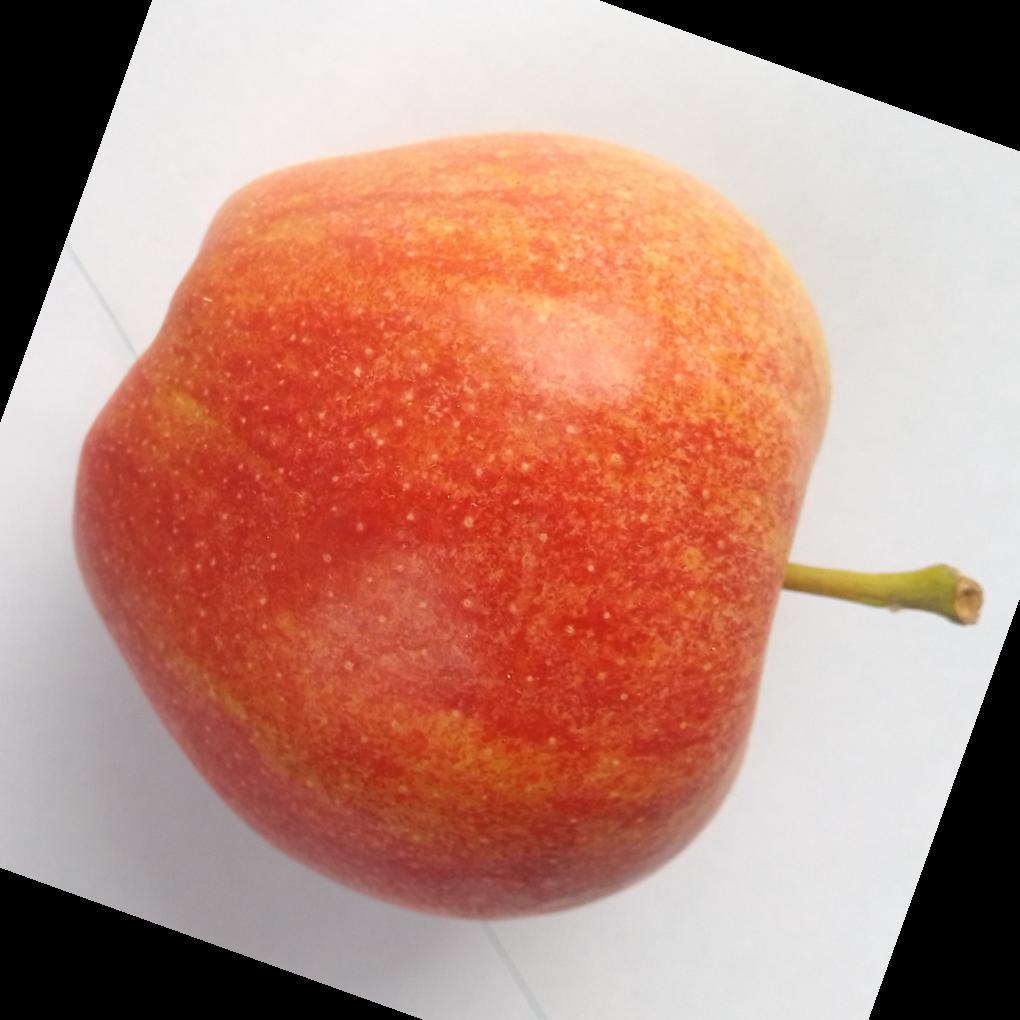FreshGuava: (69, 132, 834, 926)
